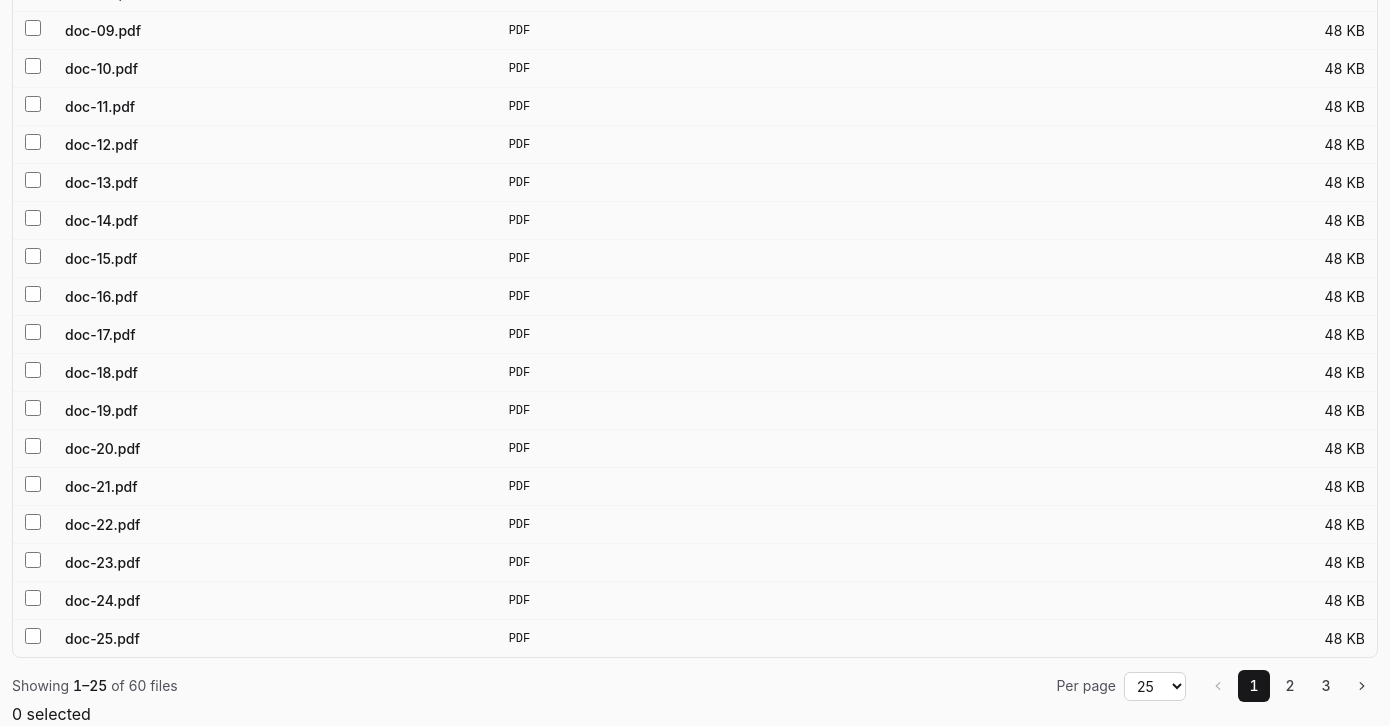
Test: FileTable › shows one page at a time and moves between pages
(page scrolled)
Expected: the text "Showing 1–25 of 60 files" is shown, x1=12 y1=676 x2=178 y2=696
Expected: the button named "Previous page" is disabled, x1=1202 y1=670 x2=1234 y2=702
Click the button named "Page 3".
click(1326, 686)  # box x1=1310 y1=670 x2=1342 y2=702
(page scrolled)
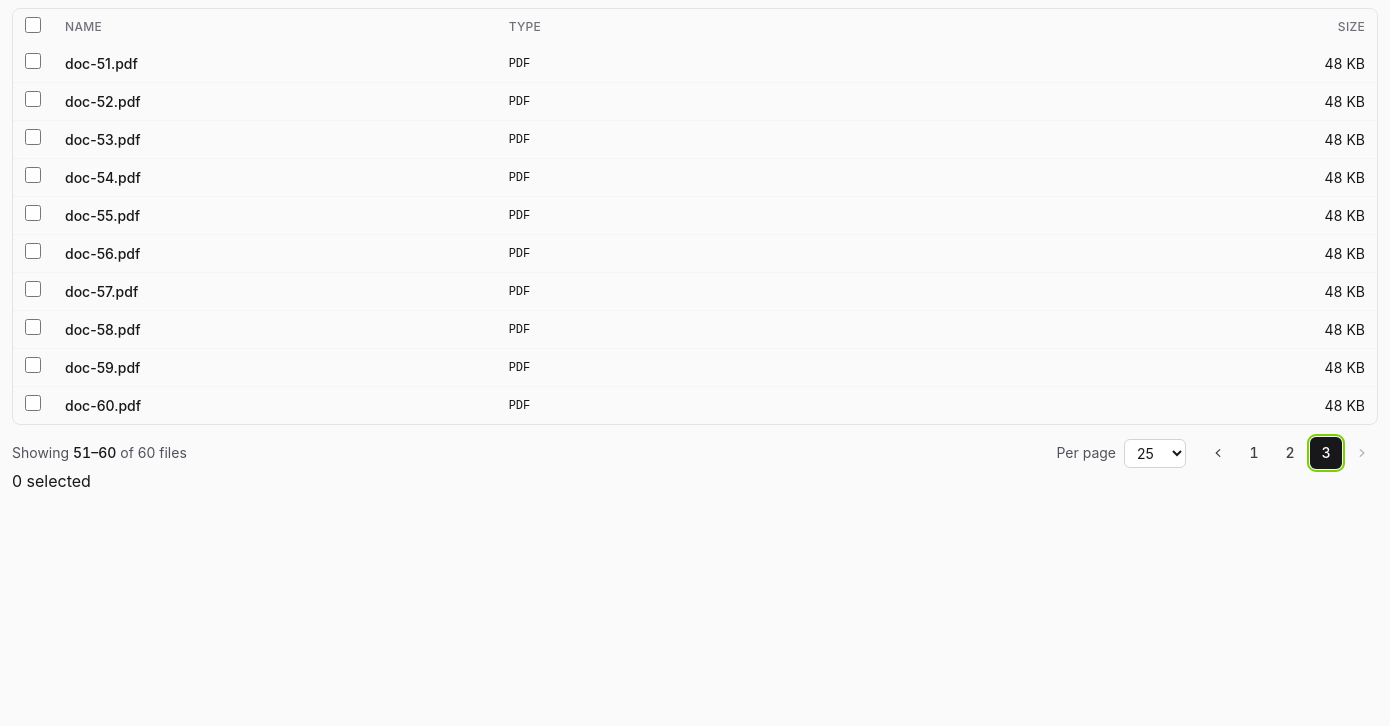
Expected: the button named "Next page" is disabled, x1=1346 y1=437 x2=1378 y2=469
